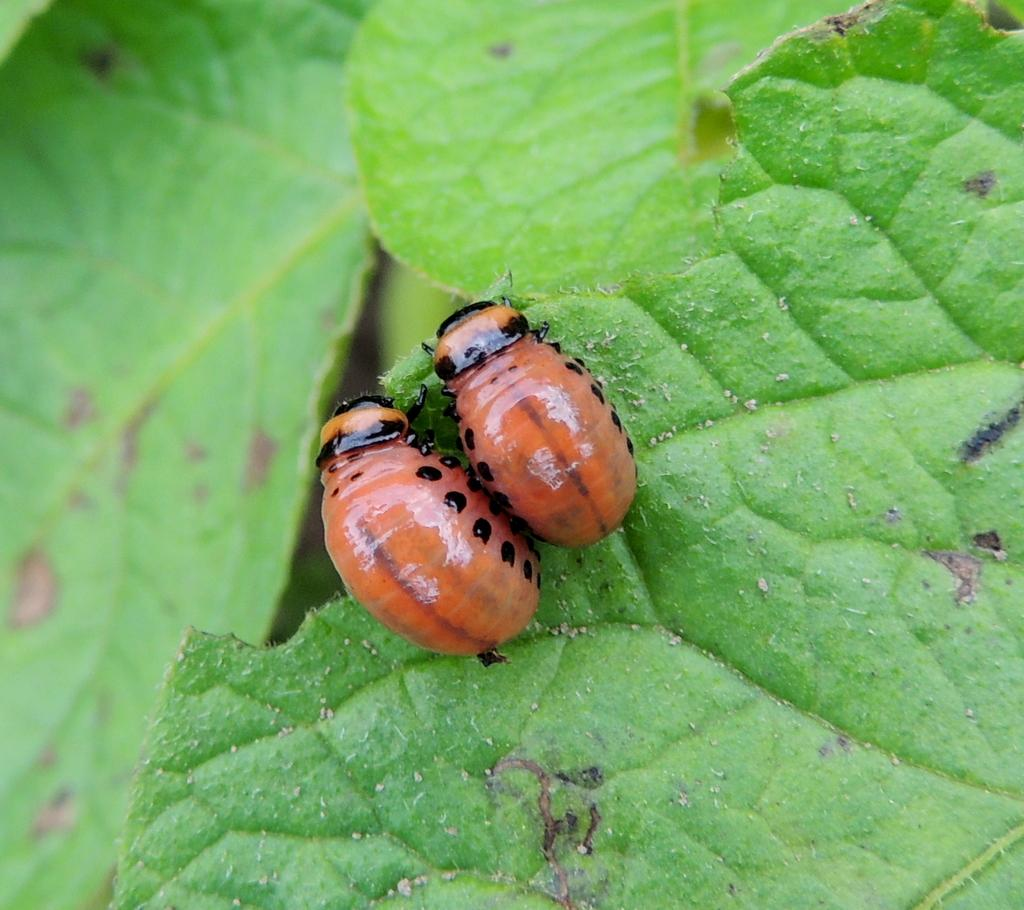potato_beetle: (257, 364, 579, 692), (391, 259, 683, 582)
